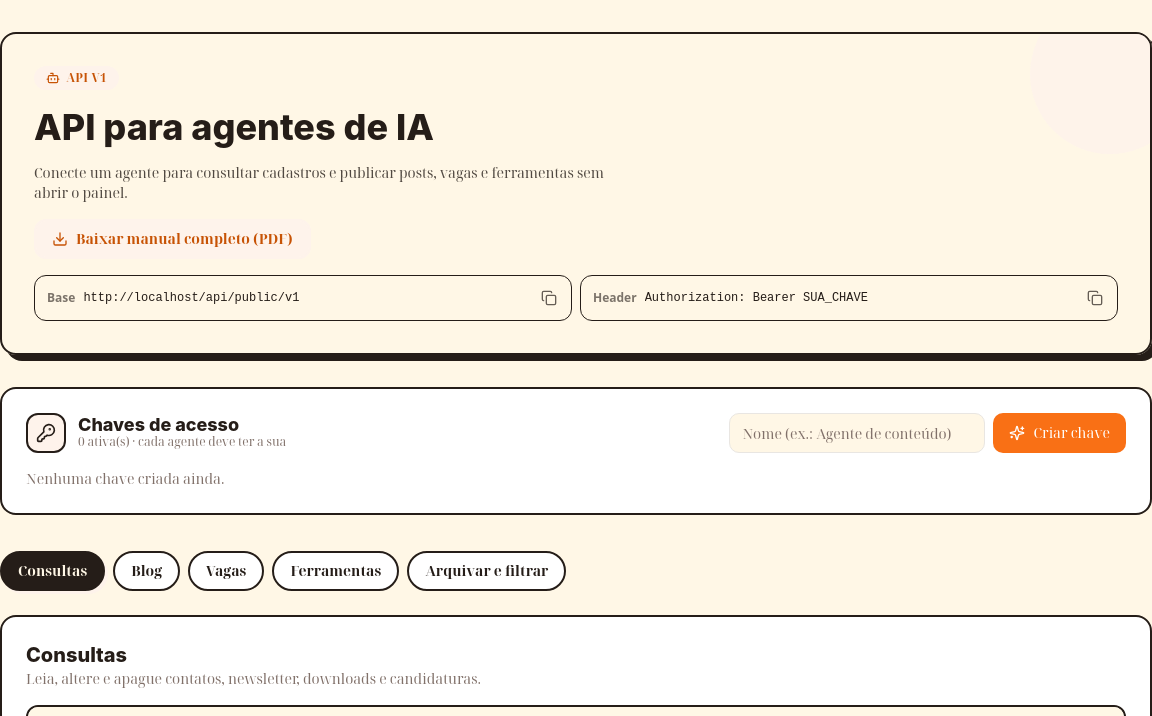
Manual da API — abas › aba Ferramentas mostra seus endpoints
Click the tab "Ferramentas" at (336, 571), box [272,551,399,591]
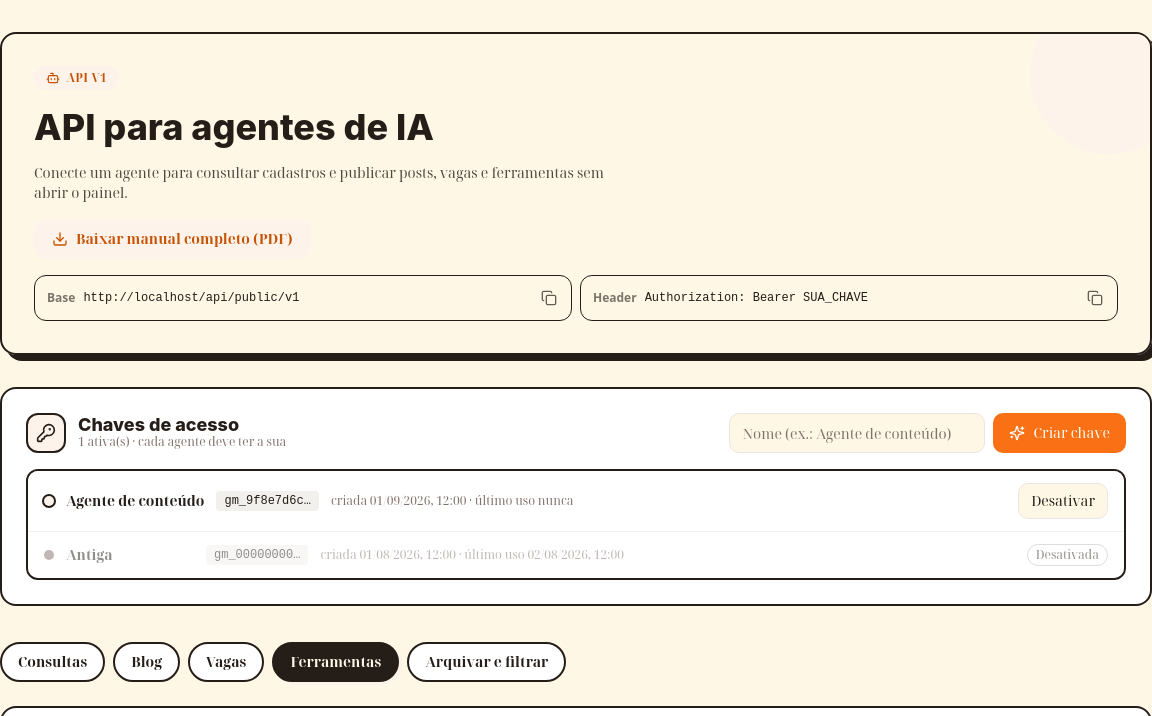
Result: the tab "Ferramentas" is selected at [272,642,399,682]
Result: the tab "Ferramentas" has attribute tabindex="0" at [272,642,399,682]
Result: the tab "Consultas" has attribute tabindex="-1" at [0,642,105,682]
